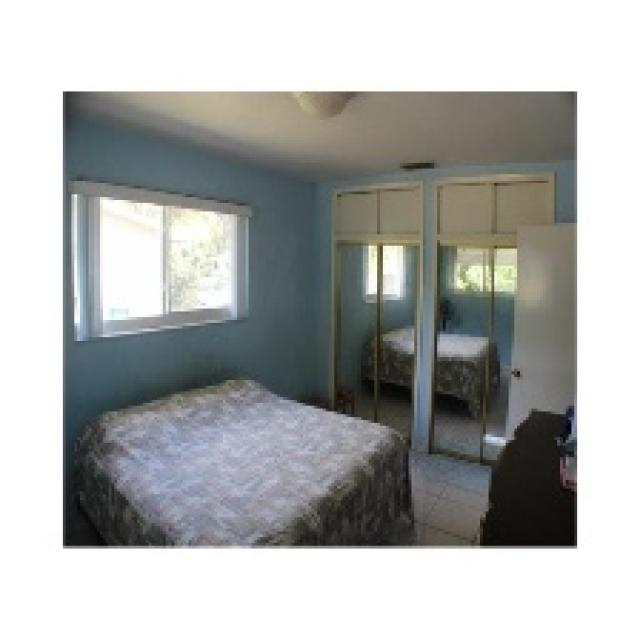Bed: (72, 374, 414, 546), (360, 323, 497, 417)
